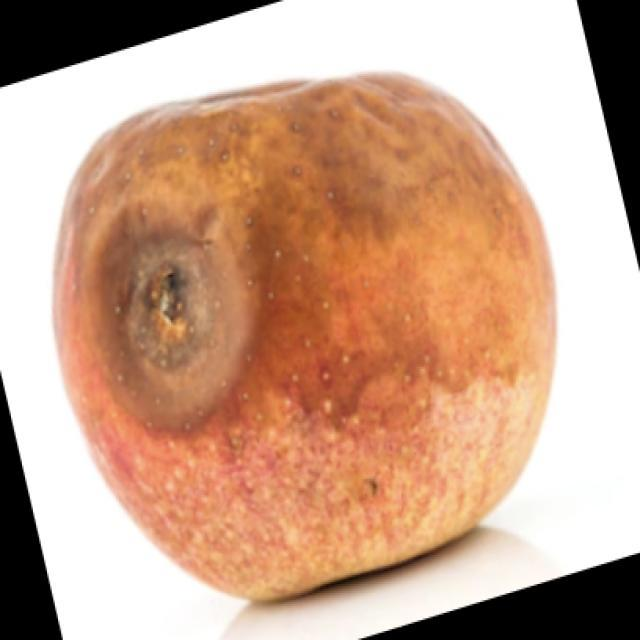Rotten: (51, 65, 556, 600)
